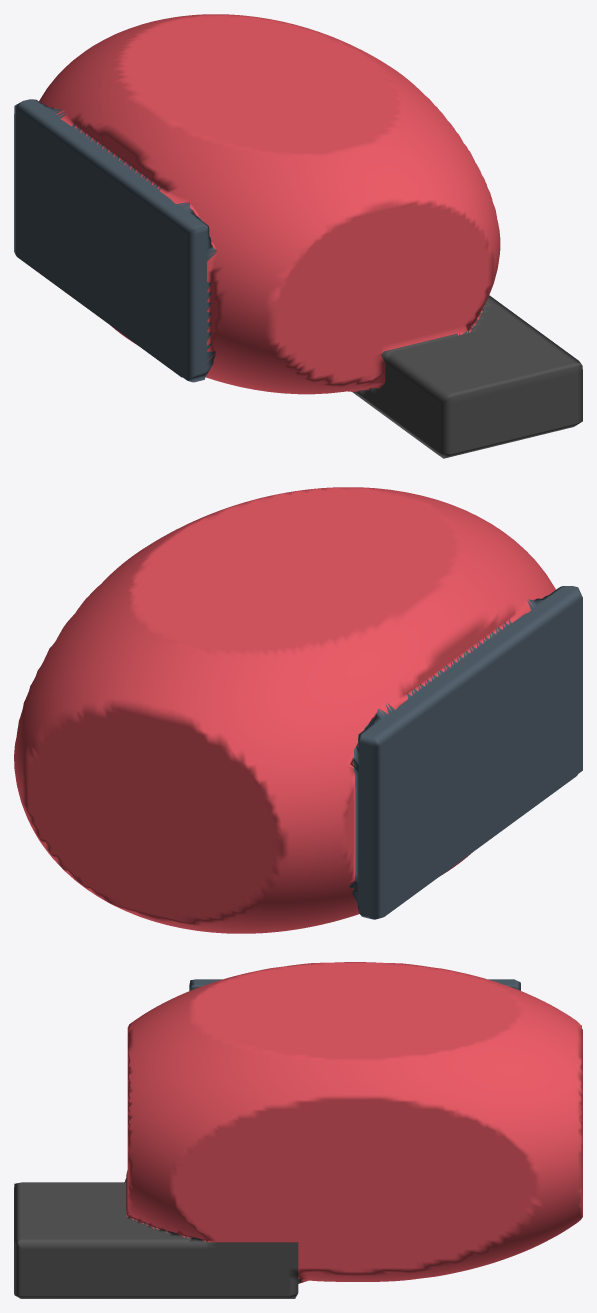
File: mirror_left.glb
The picture shows the model from 3 angles, top to bottom: view 1: azimuth 30°, elevation 25°; view 2: azimuth 150°, elevation 25°; view 3: azimuth 270°, elevation 25°; orthographic projection. The views are drawn at different scales.
Visible parts, largest first — view 1: mirror_left; view 2: mirror_left; view 3: mirror_left.
Part boxes in pixels (box(x1,y1,x2,y2)): mirror_left: box(14, 14, 582, 458); mirror_left: box(14, 487, 582, 933); mirror_left: box(14, 962, 582, 1298).
Size of the model in its own units: 1.71 by 1.33 by 3.
